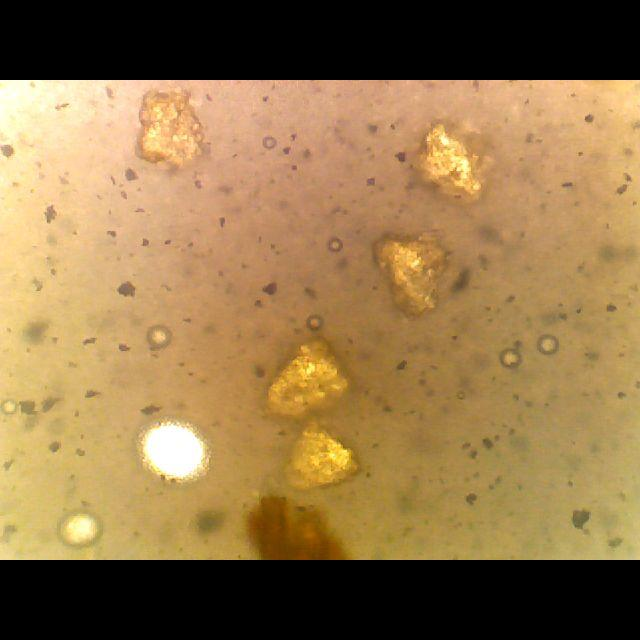Fragment: (252, 329, 358, 433), (401, 107, 505, 211), (369, 220, 459, 318), (126, 86, 214, 176), (274, 414, 370, 494)
microbeads: (51, 506, 104, 556), (144, 319, 176, 355), (532, 328, 566, 358), (498, 350, 524, 370), (0, 396, 16, 416)
